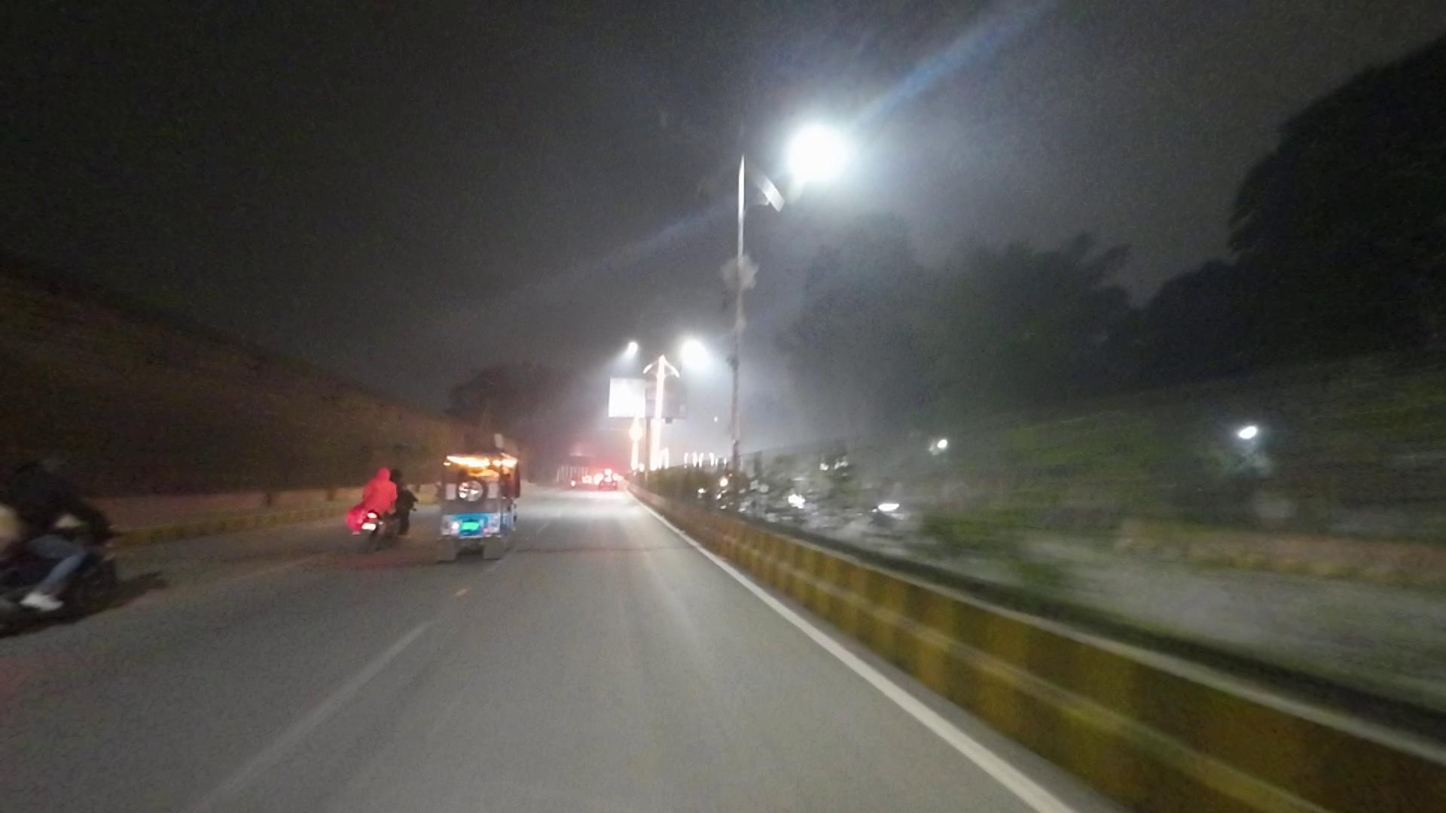streetlight: (648, 105, 703, 139)
